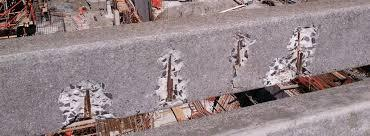exposed_rebar: (166, 53, 173, 101), (296, 27, 303, 75), (84, 89, 91, 119), (236, 40, 241, 66)
spalling: (263, 25, 318, 85), (59, 80, 113, 125), (156, 49, 186, 107), (232, 33, 256, 76)
